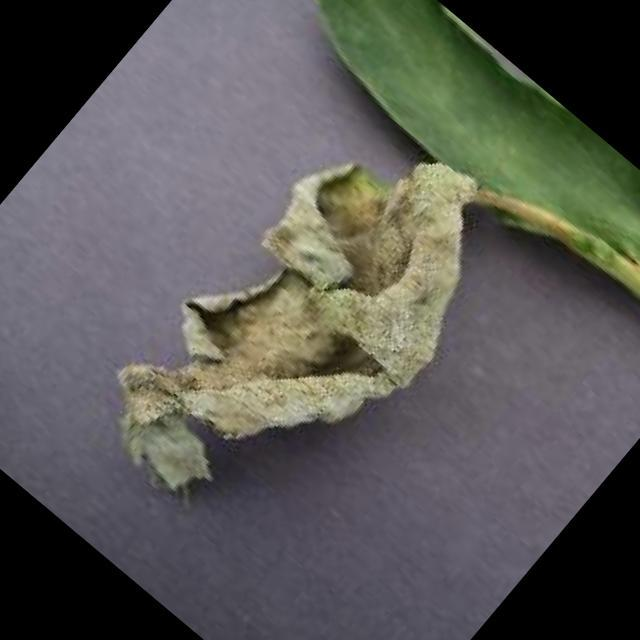Tomato late blight leaf: (64, 77, 542, 582)
